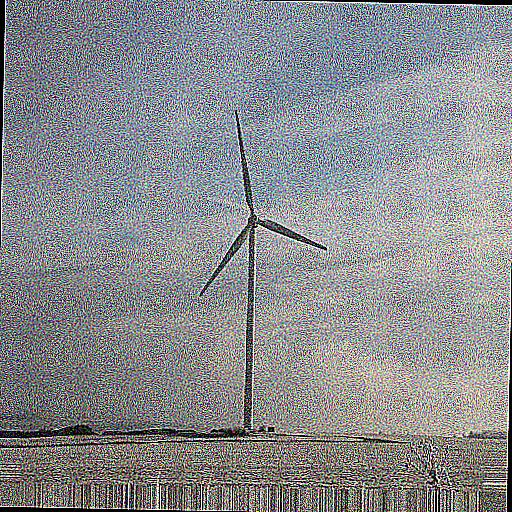wind turbine: (200, 111, 330, 430)
